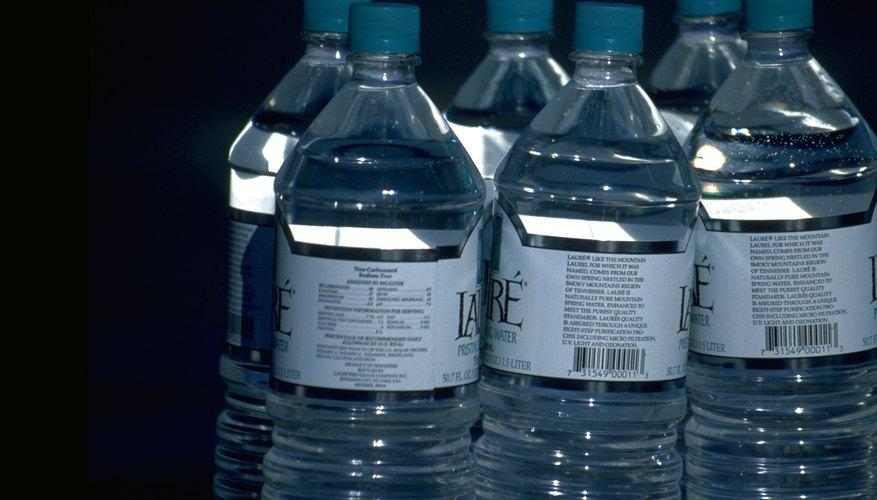plastic: (217, 0, 488, 499), (474, 3, 697, 499), (685, 0, 876, 499)
